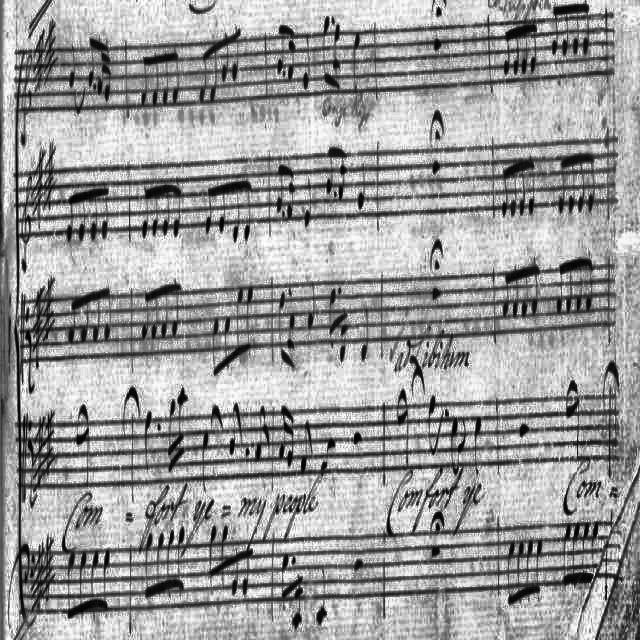Bass-clef: (6, 536, 30, 632)
Diez: (32, 150, 46, 184), (44, 15, 56, 52), (44, 276, 56, 312), (44, 406, 56, 442), (46, 52, 59, 84), (32, 289, 44, 323), (34, 414, 44, 454), (46, 140, 56, 176), (34, 34, 46, 62), (45, 530, 53, 566), (36, 542, 44, 578), (33, 66, 43, 94)
Eighth-note: (256, 404, 272, 472), (450, 416, 468, 474), (428, 391, 444, 454), (228, 404, 242, 460), (590, 521, 602, 583), (66, 548, 76, 616), (243, 176, 253, 244), (300, 420, 312, 474), (90, 548, 100, 608), (583, 0, 593, 60), (278, 288, 286, 360), (588, 146, 596, 218), (556, 156, 566, 212), (322, 15, 330, 85), (231, 26, 241, 82), (582, 520, 590, 588), (246, 282, 254, 350), (235, 286, 243, 354), (577, 148, 585, 216), (573, 258, 583, 312), (568, 149, 576, 215), (572, 522, 580, 586), (562, 522, 570, 586), (516, 539, 524, 603), (506, 539, 514, 603), (146, 534, 154, 598), (79, 548, 87, 612), (320, 438, 336, 470), (210, 38, 218, 102), (93, 291, 103, 341), (177, 525, 185, 587), (166, 528, 174, 590), (102, 548, 110, 610), (232, 180, 240, 242), (526, 536, 534, 596), (280, 554, 290, 602), (230, 550, 240, 598), (156, 532, 164, 592), (520, 268, 530, 316), (327, 288, 337, 336), (174, 178, 182, 238), (211, 317, 219, 375), (172, 280, 180, 338), (102, 183, 110, 241), (528, 155, 536, 213), (512, 20, 520, 78), (530, 17, 538, 75), (242, 551, 252, 597), (535, 538, 543, 594), (160, 282, 168, 338), (90, 186, 98, 242), (142, 184, 150, 240), (162, 182, 170, 238), (86, 32, 94, 88), (150, 50, 158, 106), (161, 50, 169, 106), (586, 258, 594, 312), (78, 189, 86, 243), (218, 181, 226, 235), (518, 158, 526, 212), (140, 53, 148, 107), (198, 48, 206, 102), (551, 1, 559, 55), (560, 3, 568, 57), (275, 19, 283, 72), (556, 262, 564, 314), (532, 262, 540, 314), (222, 314, 230, 366), (66, 192, 74, 244), (274, 162, 282, 214), (511, 267, 519, 317), (141, 289, 149, 339), (104, 289, 112, 339), (509, 163, 516, 219), (502, 270, 510, 318), (82, 296, 90, 344), (70, 296, 78, 344), (205, 186, 213, 234), (325, 146, 333, 194), (500, 166, 508, 214), (221, 32, 229, 80), (502, 26, 510, 74), (220, 525, 228, 571), (152, 181, 158, 239), (173, 48, 179, 104), (572, 0, 578, 56), (522, 18, 528, 72), (566, 260, 572, 312), (152, 287, 158, 339), (210, 522, 214, 578)
Full-rest: (431, 156, 444, 180), (431, 281, 443, 305), (432, 37, 444, 55), (430, 544, 442, 562)
Half-note: (75, 403, 93, 485), (566, 378, 582, 459), (396, 388, 410, 469)
Half-rest: (354, 554, 366, 578), (517, 421, 531, 441), (352, 426, 364, 446)
Quarter-note: (199, 429, 213, 493), (143, 406, 153, 470), (317, 564, 327, 626), (361, 308, 372, 364), (473, 416, 483, 476), (66, 42, 78, 90), (301, 34, 311, 90), (352, 32, 362, 88), (356, 158, 366, 214), (306, 280, 316, 328), (304, 178, 312, 230)
Sixteenth-note: (177, 374, 189, 462), (286, 308, 298, 372), (292, 572, 304, 634), (337, 144, 348, 200), (167, 394, 175, 468), (104, 31, 112, 101), (334, 24, 342, 90), (339, 306, 348, 364), (288, 404, 296, 468), (278, 400, 286, 462), (96, 32, 104, 94), (288, 160, 296, 220), (288, 23, 296, 83)
Treble-clef: (17, 47, 31, 151), (19, 174, 31, 286)
